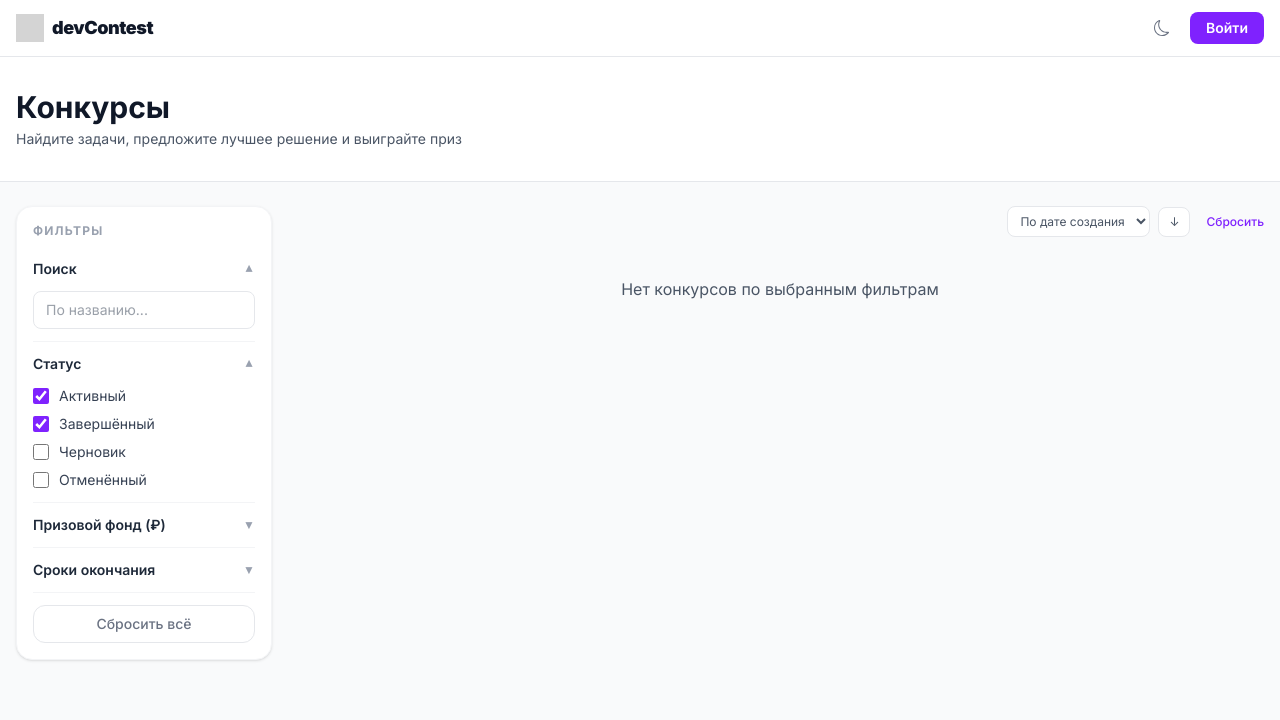
Test case: Авторизация и регистрация › показывает ошибку при неверном логине
The image size is (1280, 720).
Click the button "Войти": (1227, 28) x1=1190 y1=12 x2=1264 y2=44
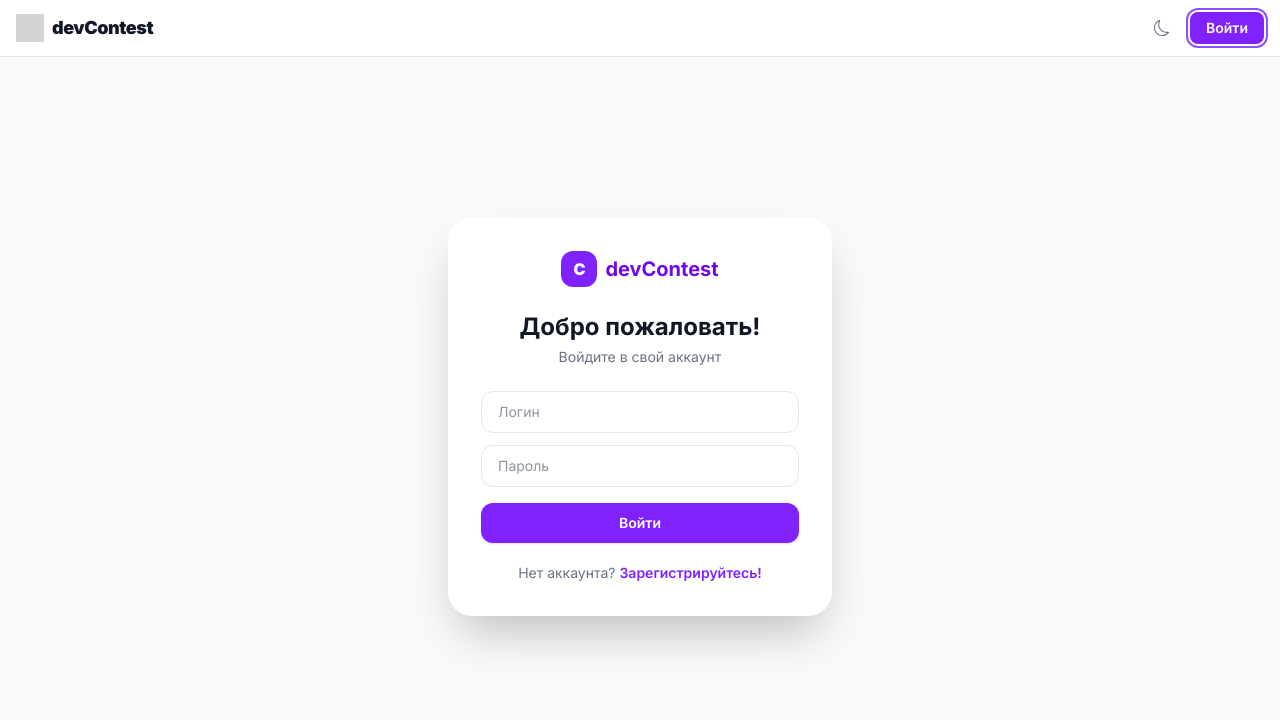
In the field with placeholder "Логин": (640, 412) x1=481 y1=391 x2=799 y2=433, type "nonexistent_user_xyz"
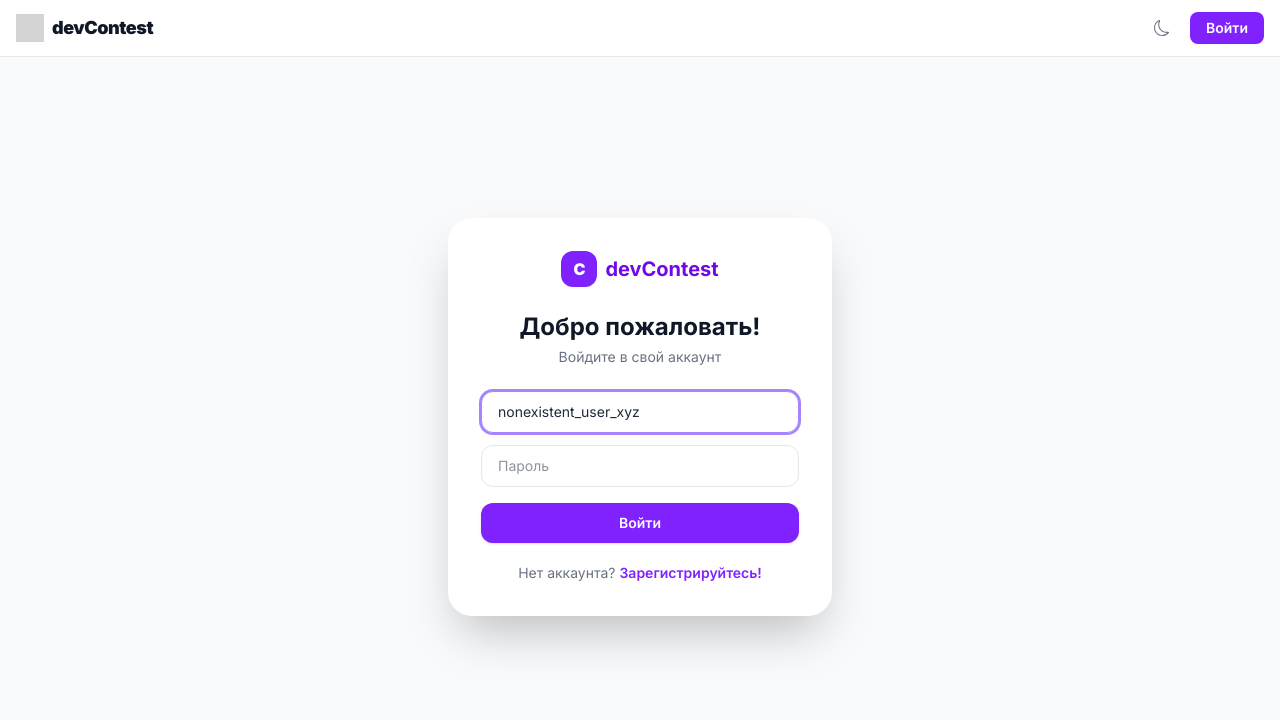
In the password field with placeholder "Пароль": (640, 466) x1=481 y1=445 x2=799 y2=487, type "wrongpassword"
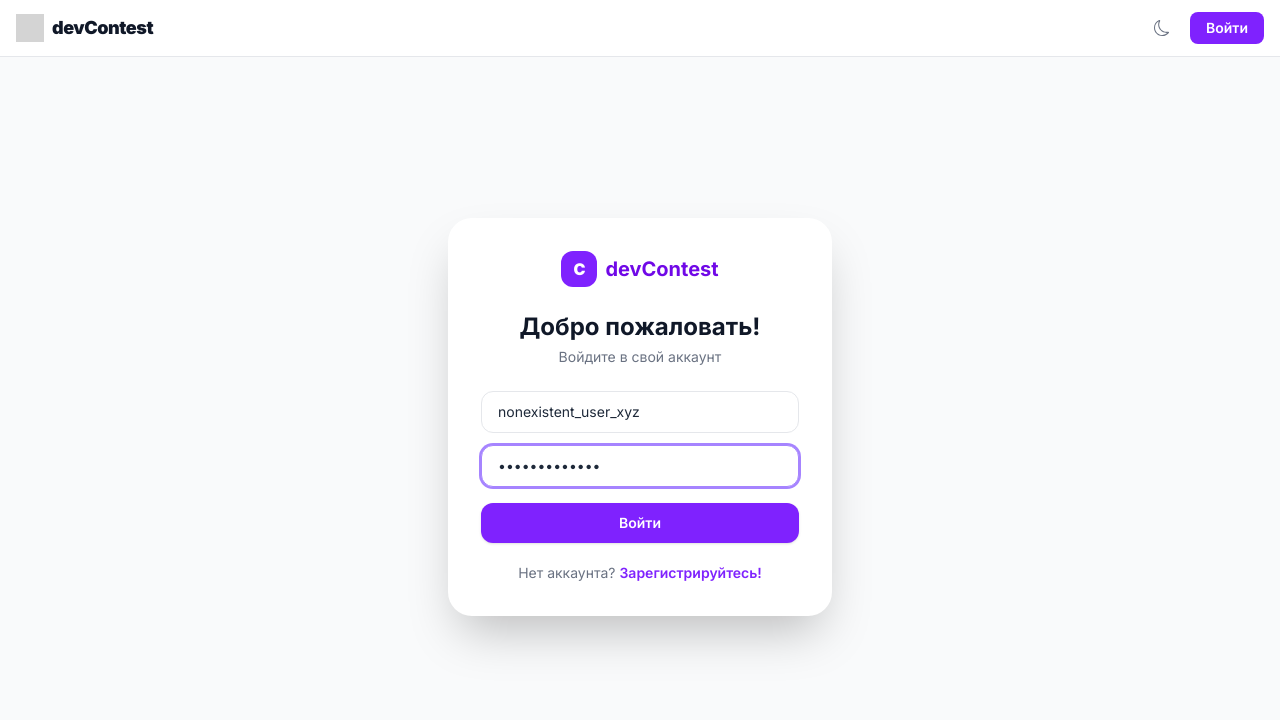
Click the button "Войти" below "Войдите в свой аккаунт": (640, 523) x1=481 y1=503 x2=799 y2=543
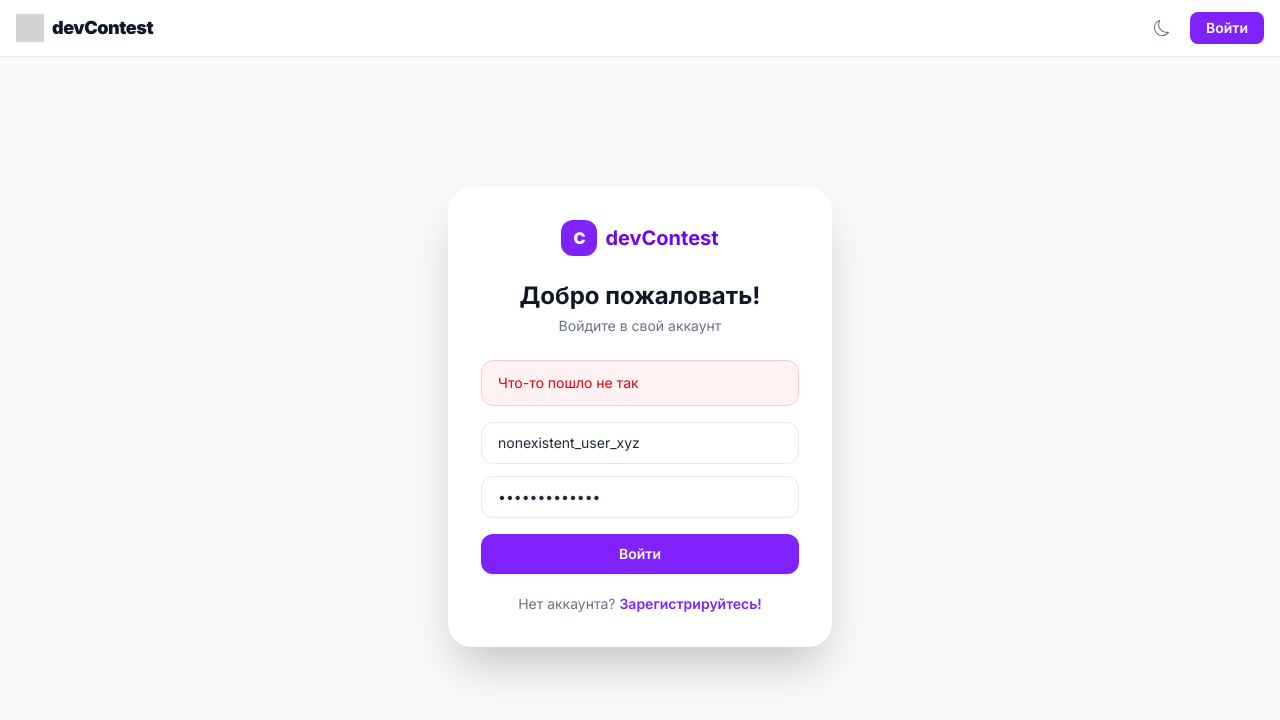
Expected: the text "Что-то пошло не так" is shown, x1=481 y1=360 x2=799 y2=406
